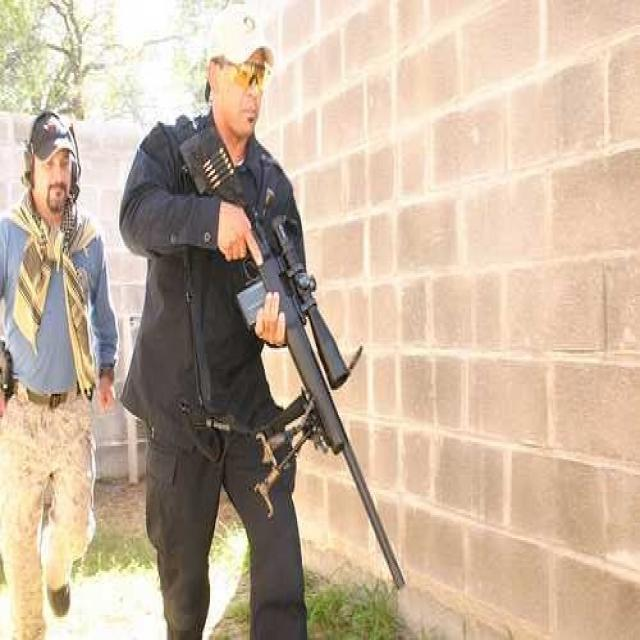weapon: (169, 127, 430, 613)
